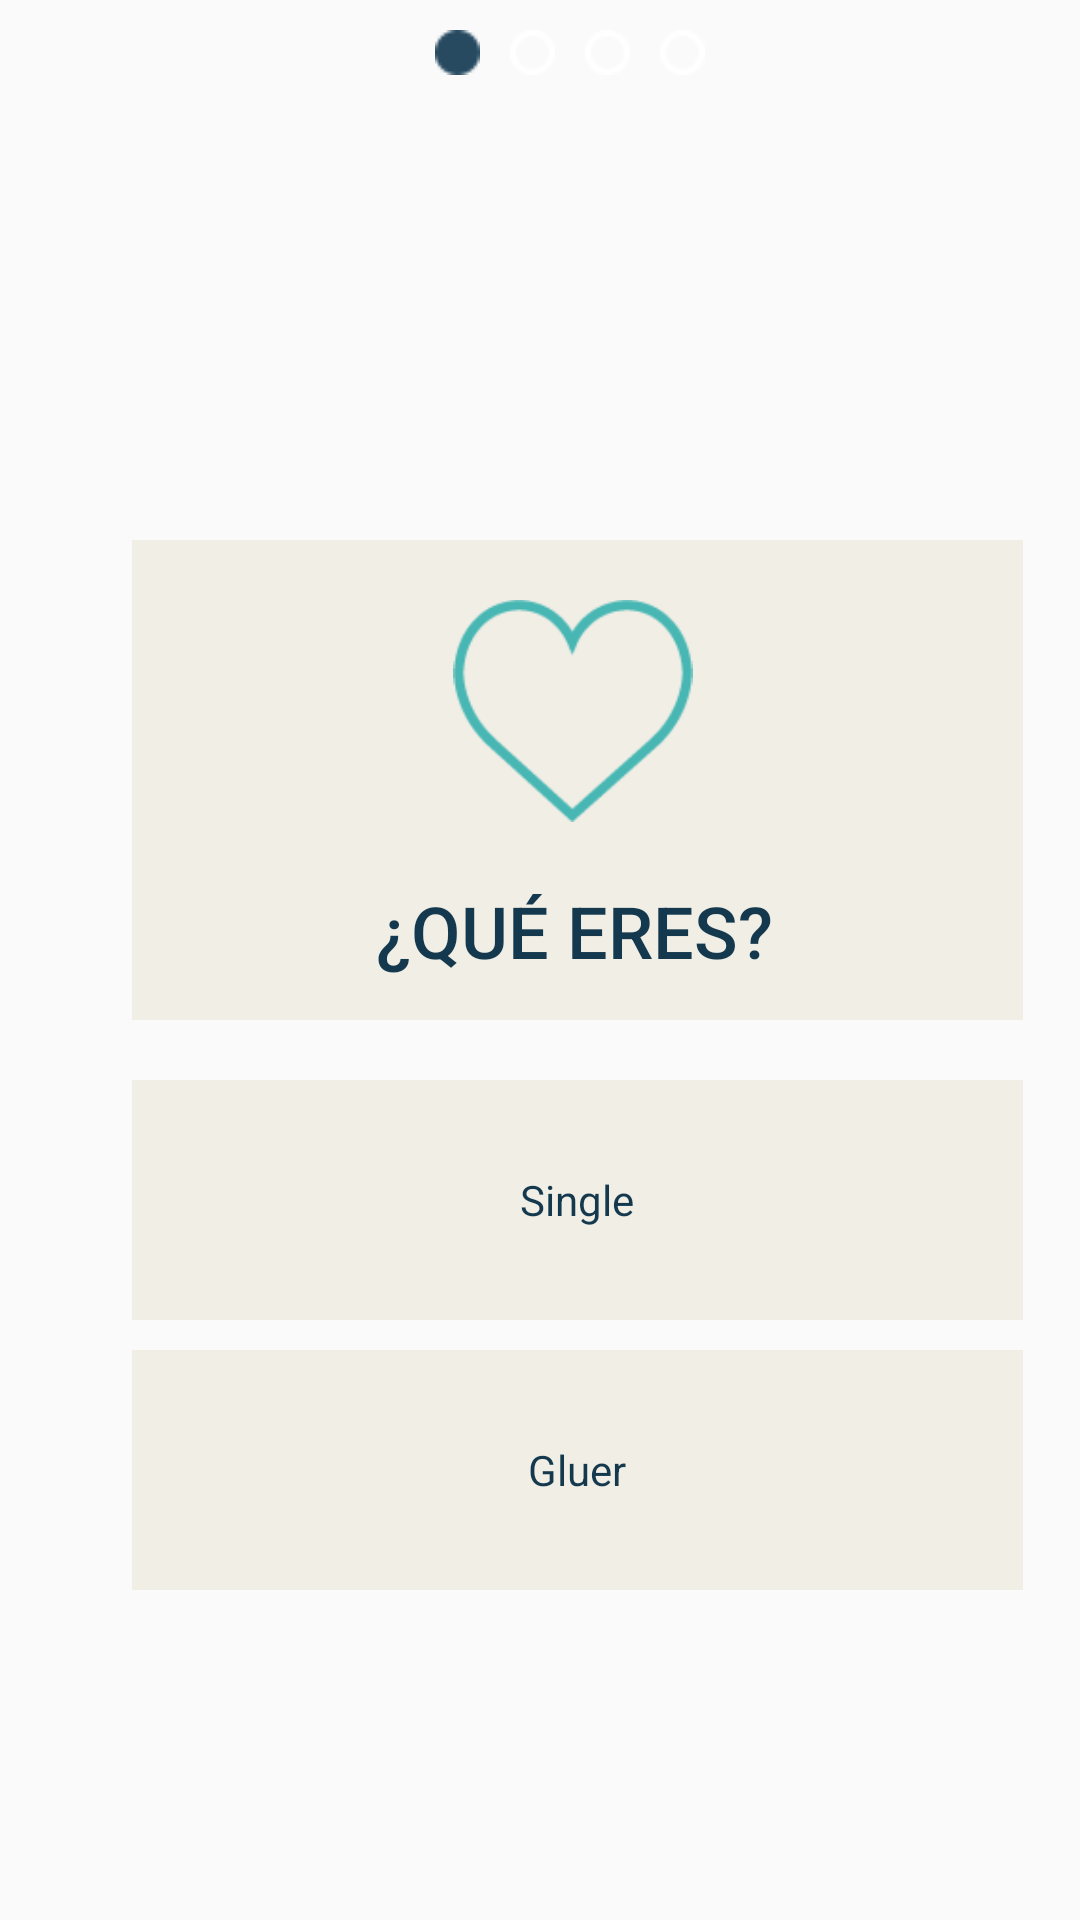

Where to tap for icons on this 1080x1920 app screen, as (x,y):
corazon: (573,711)
punto: (457,52)
